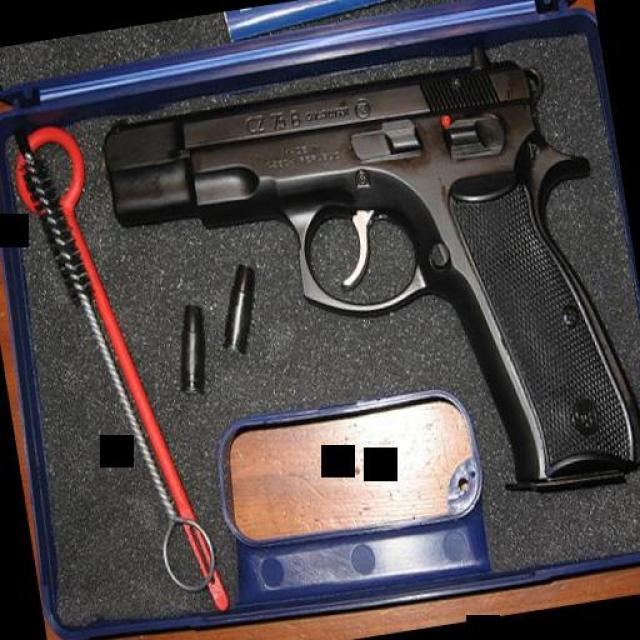gun: (92, 40, 640, 550)
